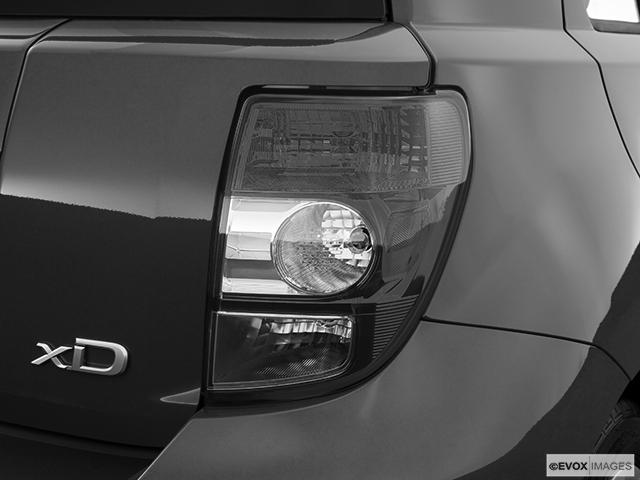car: (2, 1, 639, 475)
